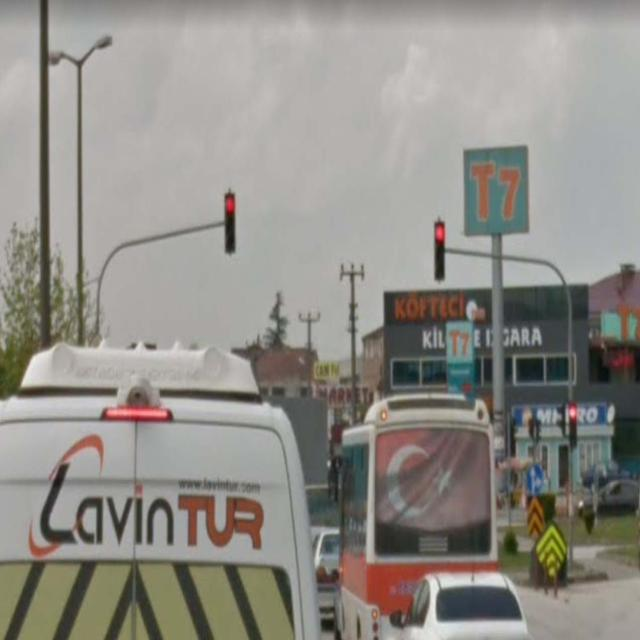ilerisag: (527, 465, 544, 494)
kirmizi: (434, 222, 445, 276), (226, 194, 236, 250), (569, 403, 575, 442)
